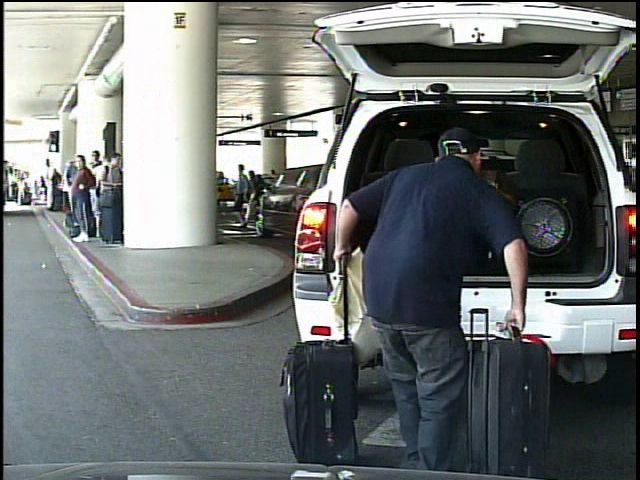person: (324, 117, 549, 480), (234, 162, 258, 239), (246, 163, 269, 230), (18, 176, 28, 207), (38, 174, 49, 202)
